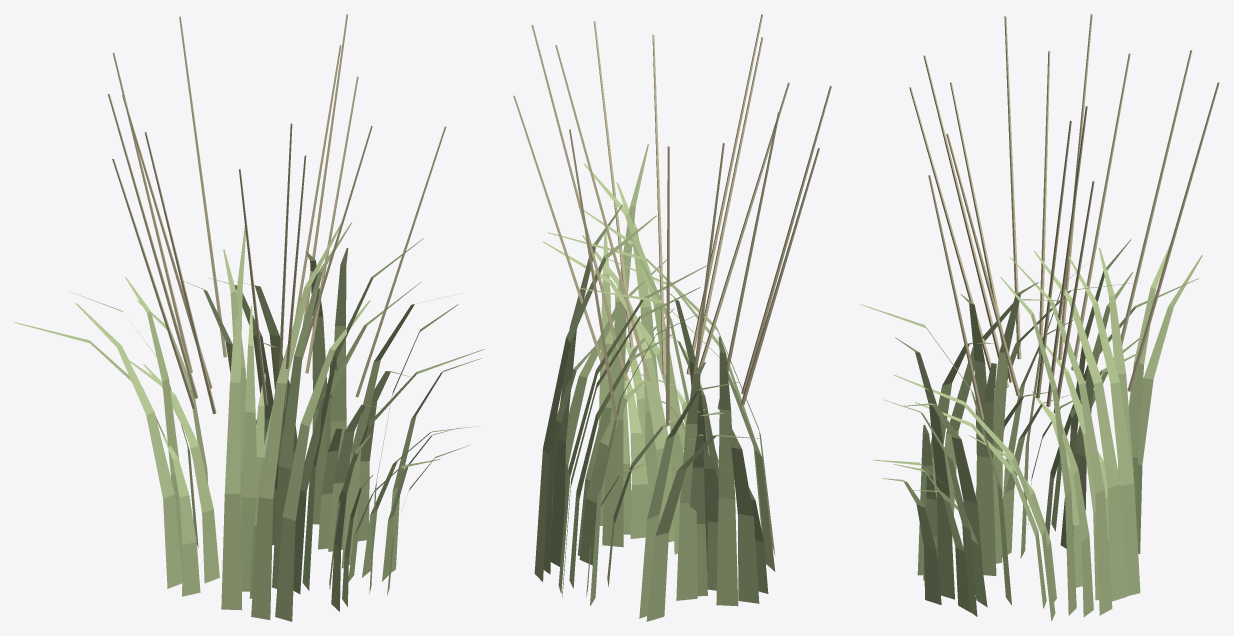
File: temperate-forest-ecology-tufted-hair-grass-7d62ee65__3847.glb
3 renders of one model, left to right at view 1: azimuth 30°, elevation 25°; view 2: azimuth 150°, elevation 25°; view 3: azimuth 270°, elevation 25°, orthographic. The views are drawn at different scales.
Parts seen in each view (by area): view 1: tufted-hair-grass; view 2: tufted-hair-grass; view 3: tufted-hair-grass.
Boxes of the visible parts, x1=… form: tufted-hair-grass: x1=14, y1=14, x2=484, y2=621; tufted-hair-grass: x1=513, y1=14, x2=831, y2=621; tufted-hair-grass: x1=860, y1=14, x2=1219, y2=621.
Size of the model in its own units: 0.746 by 1.14 by 0.7239.
